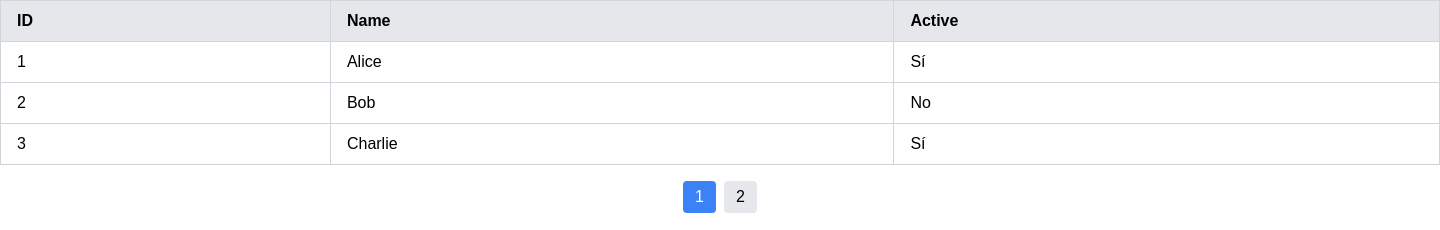
Test: PaginatedTable › navigates between pages correctly
Expected: the text "Alice" is shown, top-left (330, 42), bottom-right (894, 82)
Expected: the text "Frank" is not shown
// Navigate to page 2
What coordinates should you click on to do the following:
click the button with test id "nav2"
I would click on:
 (740, 197)
Its box is top-left (724, 181), bottom-right (757, 213).
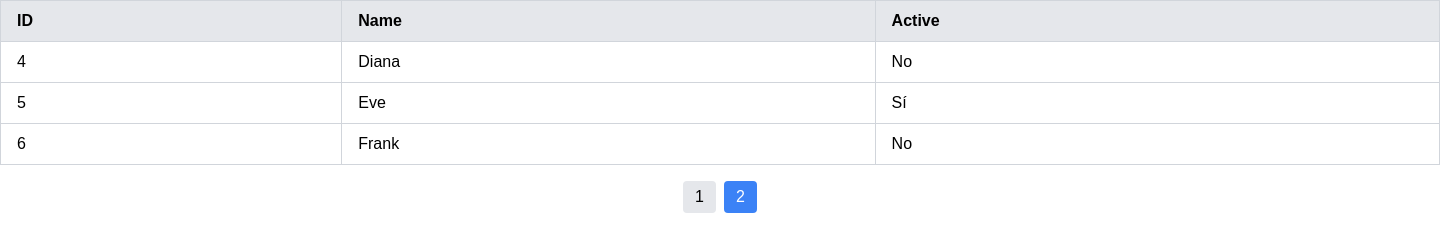
Expected: the text "Frank" is shown, top-left (342, 124), bottom-right (875, 164)
Expected: the text "Alice" is gone
